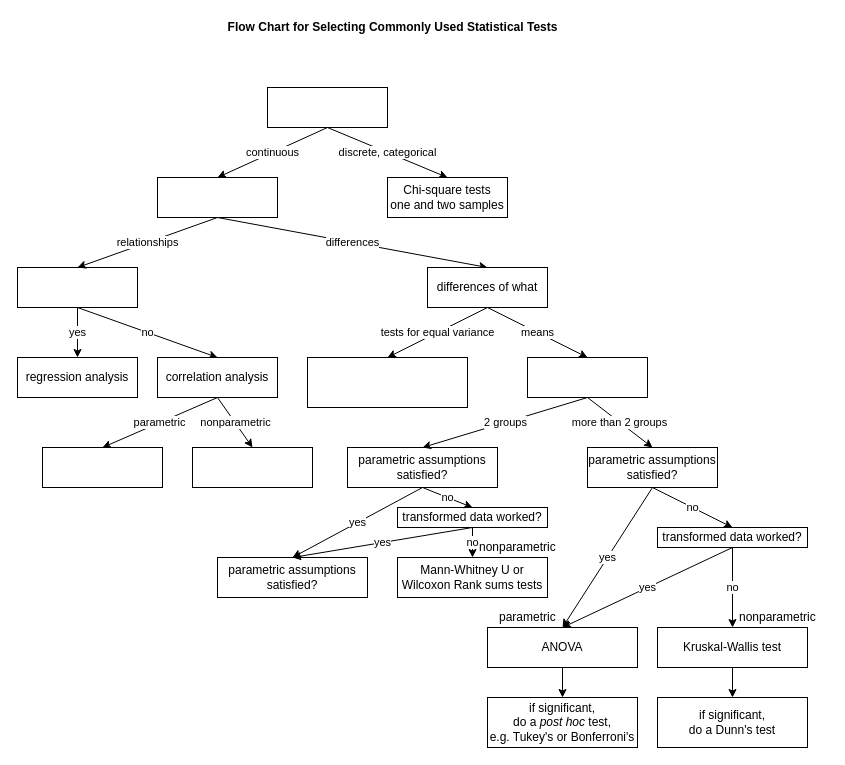
Some shapes in this 845 by 765 pixel diagram are drawn without their labels. Each missing label, with the centre of its shape:
"Fmax test, Brown and Smythe's test, Bartlett's tests" belongs at (387,382).
"how many treatment groups?" belongs at (587,377).
"independent variable" belongs at (77,287).
"Pearson's rank" belongs at (102,467).
"Spearman's rank correlation" belongs at (252,467).
"type of data" belongs at (327,107).
"type of questions" belongs at (217,197).
